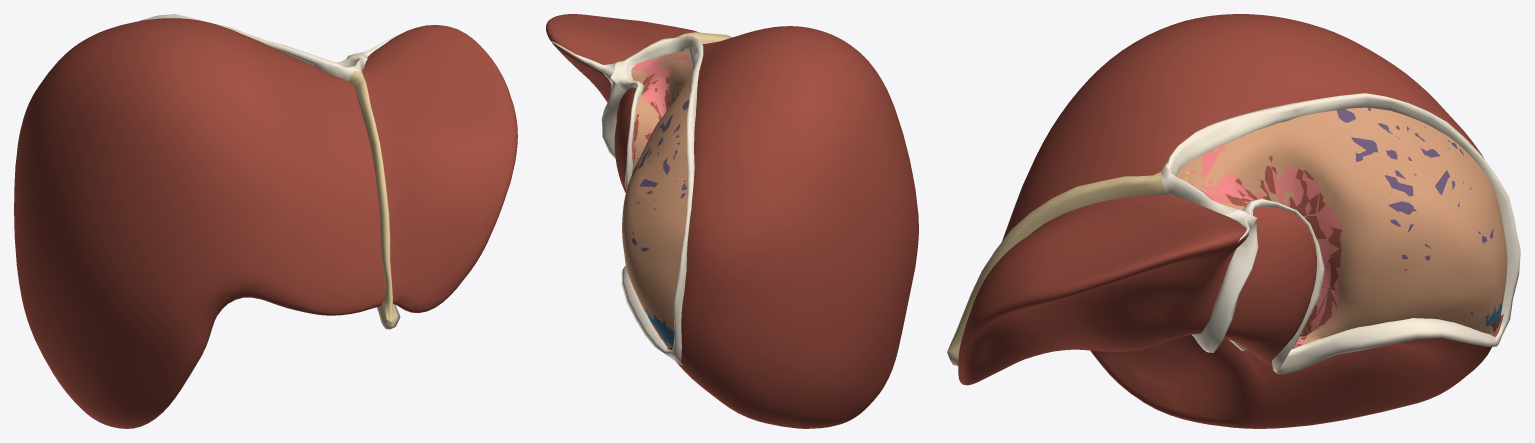
The model's file is figado.glb.
3 renders of one model, left to right at view 1: azimuth 30°, elevation 25°; view 2: azimuth 150°, elevation 25°; view 3: azimuth 270°, elevation 25°, orthographic. The views are drawn at different scales.
Visible parts, largest first — view 1: VH_M_liver_capsule, VH_M_falciform_ligament, VH_M_coronary_ligament_of_liver; view 2: VH_M_liver_capsule, VH_M_bare_area_of_liver, VH_M_coronary_ligament_of_liver, VH_M_caudate_lobe_of_liver, VH_M_ligamentum_venosum, VH_M_right_posterosuperior_segment, VH_M_diaphragmatic_surface, VH_M_triangular_ligament_of_liver, VH_M_right_posteroinferior_segment; view 3: VH_M_liver_capsule, VH_M_bare_area_of_liver, VH_M_coronary_ligament_of_liver, VH_M_falciform_ligament, VH_M_caudate_lobe_of_liver, VH_M_ligamentum_venosum, VH_M_diaphragmatic_surface, VH_M_right_posterosuperior_segment.
Boxes of the visible parts, bbox=[...] form: VH_M_liver_capsule: bbox=[14, 18, 517, 428]; VH_M_falciform_ligament: bbox=[349, 70, 393, 321]; VH_M_coronary_ligament_of_liver: bbox=[139, 14, 367, 81]; VH_M_liver_capsule: bbox=[546, 14, 918, 428]; VH_M_bare_area_of_liver: bbox=[622, 50, 692, 347]; VH_M_coronary_ligament_of_liver: bbox=[610, 35, 703, 365]; VH_M_caudate_lobe_of_liver: bbox=[632, 53, 690, 164]; VH_M_ligamentum_venosum: bbox=[601, 78, 626, 158]; VH_M_right_posterosuperior_segment: bbox=[631, 100, 688, 311]; VH_M_diaphragmatic_surface: bbox=[632, 73, 680, 339]; VH_M_triangular_ligament_of_liver: bbox=[551, 41, 616, 82]; VH_M_right_posteroinferior_segment: bbox=[644, 310, 674, 345]; VH_M_liver_capsule: bbox=[958, 14, 1503, 428]; VH_M_bare_area_of_liver: bbox=[1176, 107, 1507, 344]; VH_M_coronary_ligament_of_liver: bbox=[1161, 93, 1520, 374]; VH_M_falciform_ligament: bbox=[947, 172, 1165, 351]; VH_M_caudate_lobe_of_liver: bbox=[1186, 144, 1343, 348]; VH_M_ligamentum_venosum: bbox=[1192, 219, 1258, 352]; VH_M_diaphragmatic_surface: bbox=[1226, 156, 1496, 346]; VH_M_right_posterosuperior_segment: bbox=[1336, 107, 1504, 314].
Size of the model in its own units: 0.1913 by 0.1746 by 0.2018.
